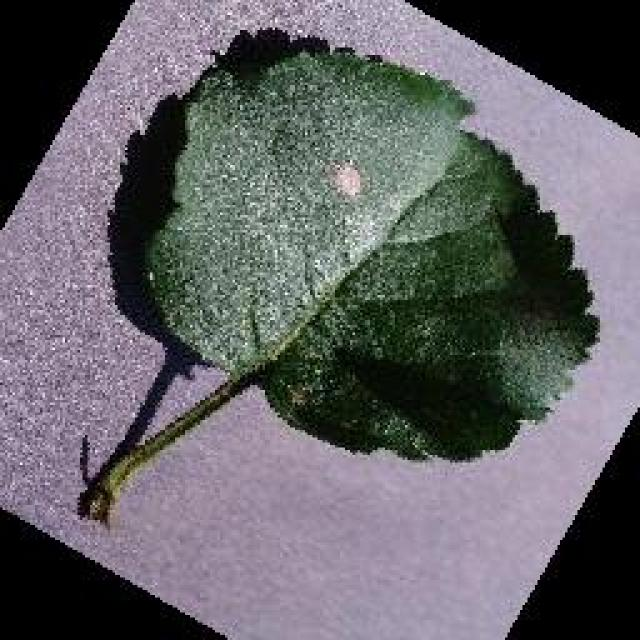Black_rot: (72, 35, 600, 527)
